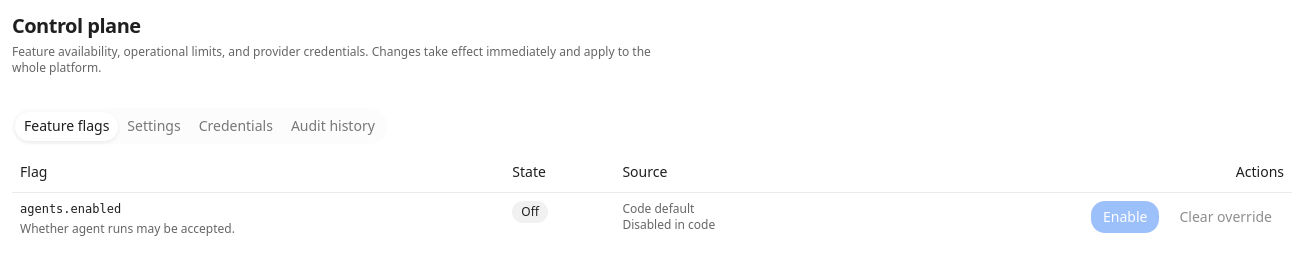
it: ControlPlaneBlock › loads safe audit history only when its tab is opened
This screenshot has width=1292, height=253.
Check: the text "agents.enabled" is shown, box [20,202,121,216]
Click the tab "Audit history". click: (333, 126)
box: [282,112,384,140]
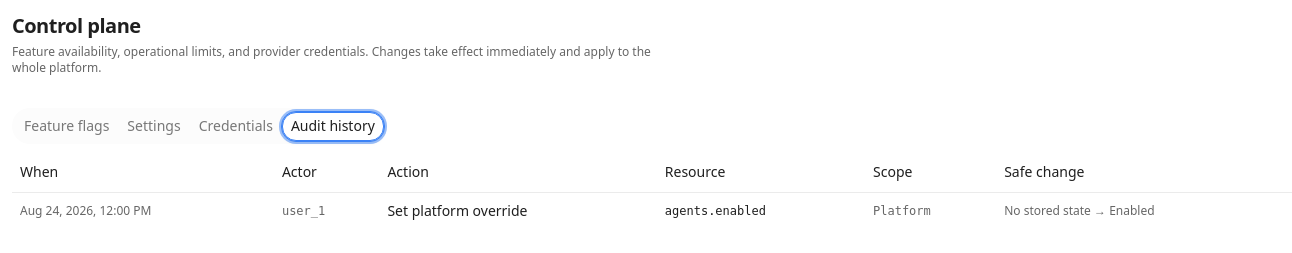
Check: the text "Set platform override" is shown, box [379,192,657,228]
Check: the text "user_1" is shown, box [274,192,379,228]
Check: the text "No stored state → Enabled" is shown, box [996,192,1291,228]
